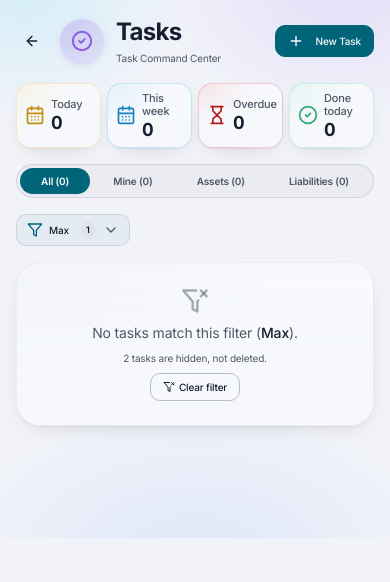
Test: Tasks page: a profile scope never looks like an empty list › scope left on Max: says the user's tasks are hidden, not deleted, and offers to clear
The image size is (390, 582).
Expected: the element with test id "tasks-scope-empty" shows "Max", [261, 324, 289, 341]
Expected: the element with test id "tasks-scope-empty" shows "2 tasks are hidden, not deleted", [16, 262, 374, 426]
Click the button with test id "tasks-scope-empty-clear": (195, 387) [150, 373, 240, 401]
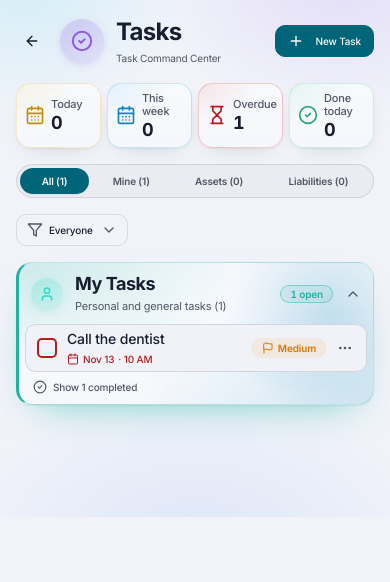
Expected: the text "Buy milk" is not shown
Now the text "Call the dentist" is shown, box [67, 330, 164, 347]
Now the button with test id "tasks-group-done-toggle-mine" reads "Show 1 completed"
Click the button with test id "tasks-group-done-toggle-mine": (85, 386) [25, 376, 145, 398]
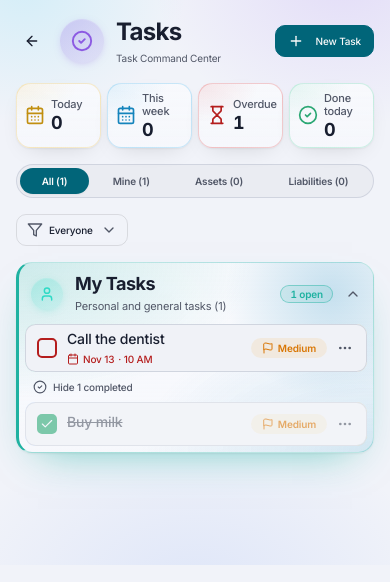
Now the text "Buy milk" is shown, box [67, 413, 122, 430]
